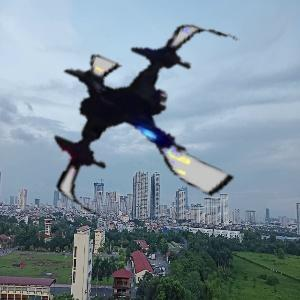drone: (37, 6, 270, 239)
